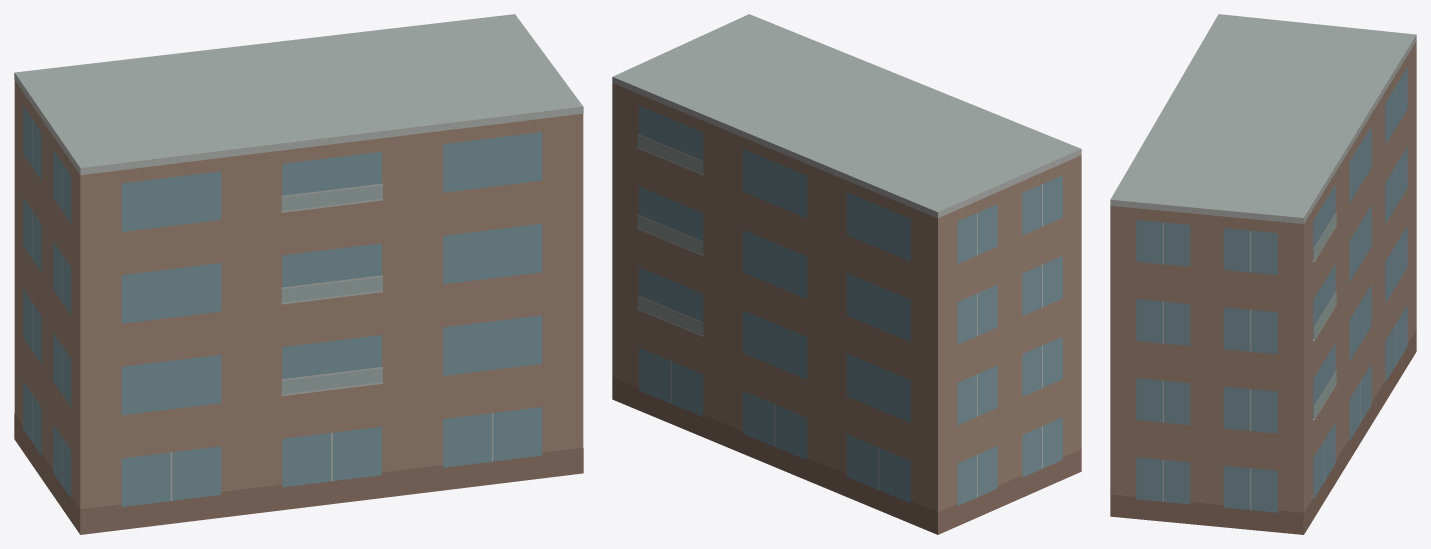
Rendered from survey-upis-32546162.glb.
3 views of the same model, side by side, from view 1: azimuth 30°, elevation 25°; view 2: azimuth 150°, elevation 25°; view 3: azimuth 270°, elevation 25° (orthographic). The views are drawn at different scales.
Visible parts, largest first — view 1: survey-upis-32546162.tmp; view 2: survey-upis-32546162.tmp; view 3: survey-upis-32546162.tmp.
Part boxes in pixels (x1,y1,x2,y2): survey-upis-32546162.tmp: [14, 14, 583, 534]; survey-upis-32546162.tmp: [612, 14, 1081, 534]; survey-upis-32546162.tmp: [1110, 14, 1416, 534].
Size of the model in its own units: 17.69 by 12.8 by 11.23.
